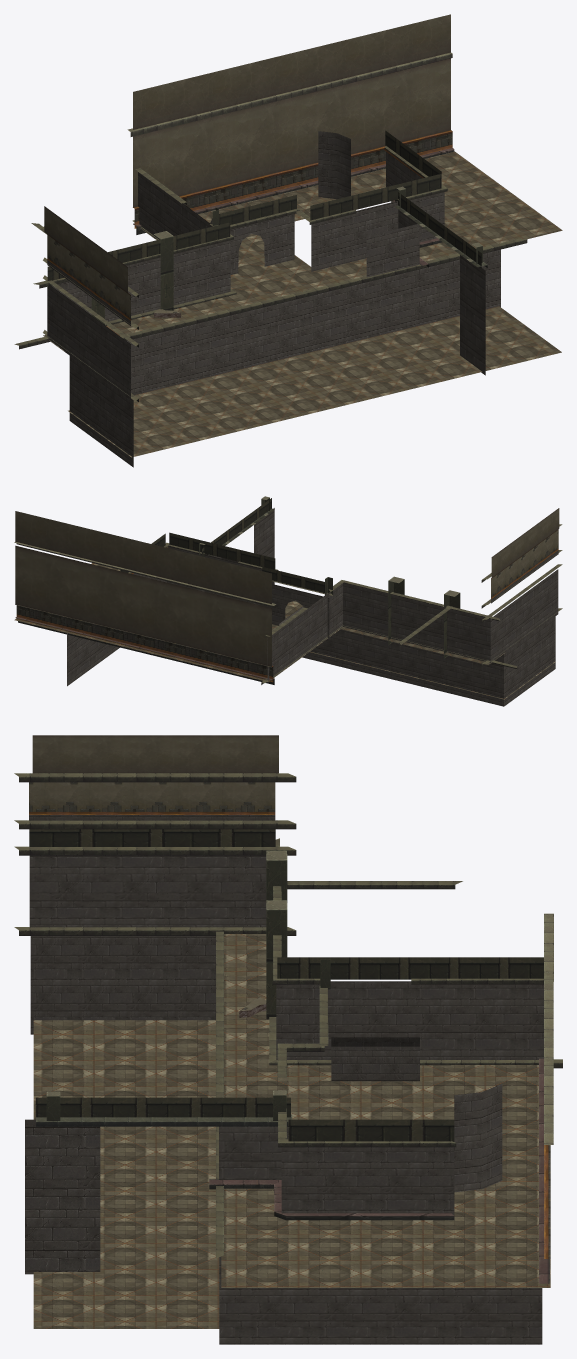
Rendered from terrain_section03_guanka1507.FBX.
The picture shows the model from 3 angles, top to bottom: view 1: azimuth 30°, elevation 25°; view 2: azimuth 150°, elevation 25°; view 3: azimuth 270°, elevation 25°; orthographic projection. The views are drawn at different scales.
Parts seen in each view (by area): view 1: terrain_section03_guanka1507; view 2: terrain_section03_guanka1507; view 3: terrain_section03_guanka1507.
Part boxes in pixels (x1,y1,x2,y2): terrain_section03_guanka1507: (14, 14, 562, 467); terrain_section03_guanka1507: (14, 496, 562, 706); terrain_section03_guanka1507: (14, 735, 562, 1344).
Size of the model in its own units: 103 by 37.97 by 62.88.
